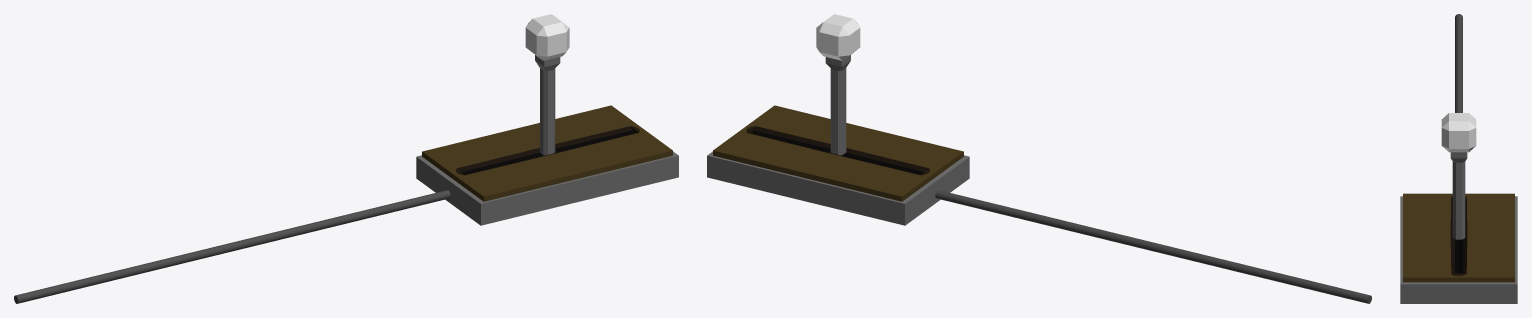
Rendered from Lever.fbx.
3 renders of one model, left to right at view 1: azimuth 30°, elevation 25°; view 2: azimuth 150°, elevation 25°; view 3: azimuth 270°, elevation 25°, orthographic. The views are drawn at different scales.
Visible parts, largest first — view 1: Wood, Base, Wire, Knob, Slit, Lever; view 2: Wood, Base, Wire, Lever, Knob, Slit; view 3: Wood, Base, Knob, Lever, Slit, Wire.
Part boxes in pixels (left/top/right/bottom): Wood: left=422, top=105, right=672, bottom=201; Base: left=416, top=151, right=678, bottom=225; Wire: left=14, top=190, right=450, bottom=303; Knob: left=525, top=14, right=569, bottom=60; Slit: left=456, top=126, right=639, bottom=175; Lever: left=535, top=55, right=560, bottom=155; Wood: left=713, top=105, right=963, bottom=201; Base: left=707, top=151, right=969, bottom=225; Wire: left=935, top=190, right=1371, bottom=303; Lever: left=825, top=55, right=850, bottom=155; Knob: left=816, top=14, right=860, bottom=60; Slit: left=746, top=126, right=929, bottom=175; Wood: left=1403, top=193, right=1514, bottom=282; Base: left=1400, top=196, right=1517, bottom=303; Knob: left=1441, top=113, right=1476, bottom=152; Lever: left=1450, top=152, right=1467, bottom=239; Slit: left=1450, top=196, right=1467, bottom=275; Wire: left=1455, top=14, right=1462, bottom=112.
Size of the model in its own units: 6.97 by 1.24 by 1.66.
